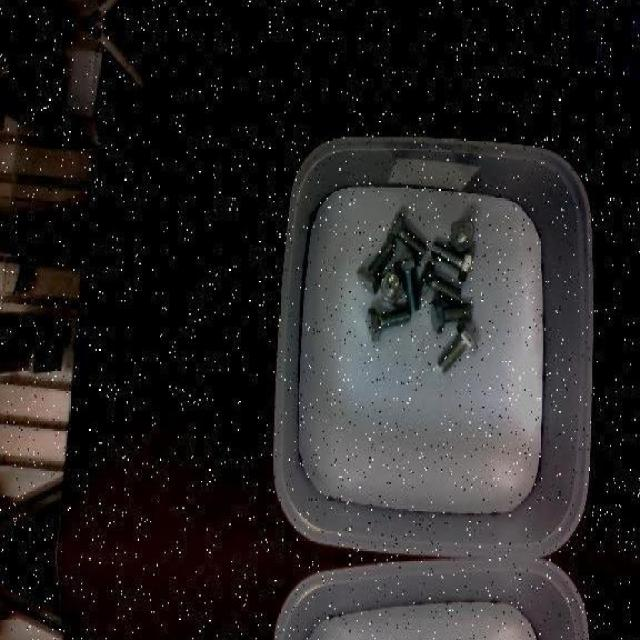screw: (437, 320, 478, 372), (356, 241, 394, 293), (418, 261, 461, 304), (386, 210, 426, 256), (431, 239, 475, 280), (392, 256, 419, 312), (367, 306, 410, 341), (430, 299, 472, 333), (448, 218, 474, 252), (379, 270, 403, 304)
